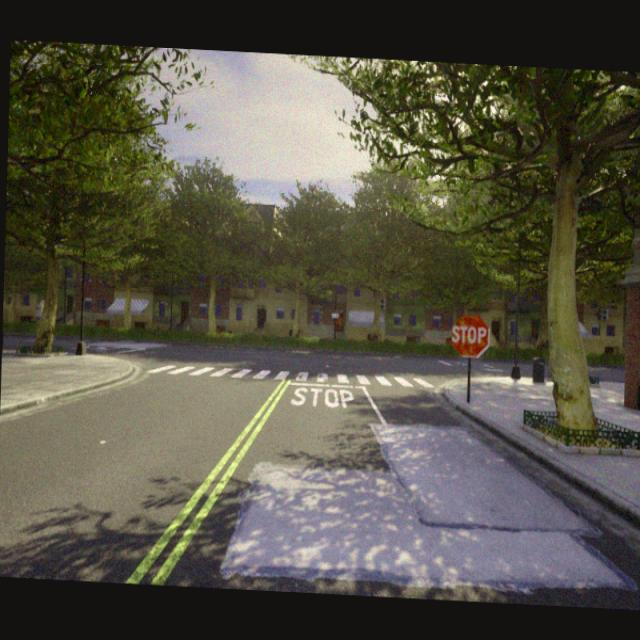stop sign: (448, 312, 491, 359), (450, 323, 488, 346)
